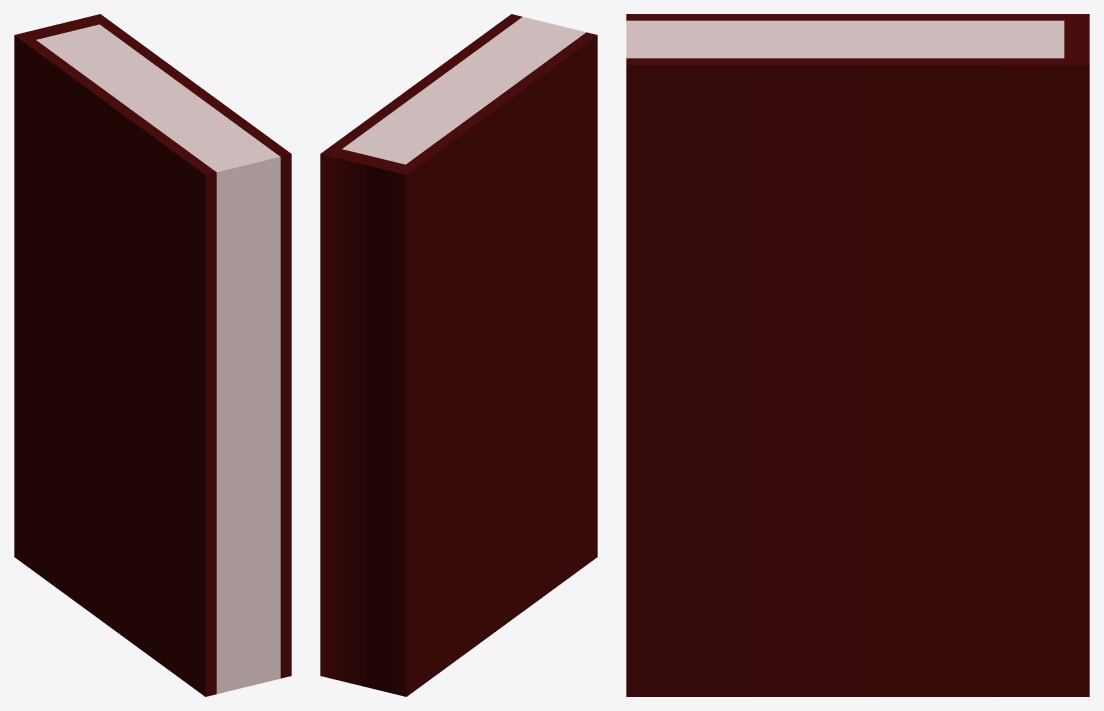
Rendered from Book.fbx.
3 views of the same model, side by side, from view 1: azimuth 30°, elevation 25°; view 2: azimuth 150°, elevation 25°; view 3: azimuth 270°, elevation 25° (orthographic). The views are drawn at different scales.
Visible parts, largest first — view 1: book; view 2: book; view 3: book.
Part boxes in pixels (x1,y1,x2,y2): book: (14,14,291,696); book: (320,14,597,696); book: (626,14,1089,696).
Bounding box in the file's own units: 2.59 × 14.97 × 9.95.
